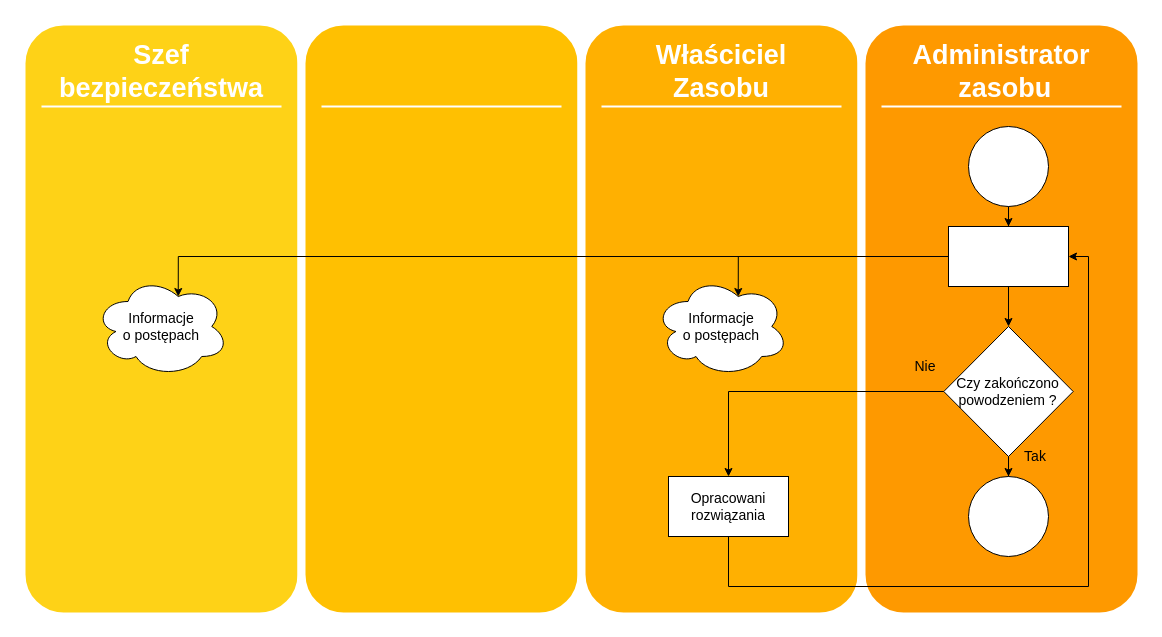
Image size: 1162x637. Some labels were removed from this diagram. Here are the shapes that lost their labels. From the top down, the centre of each, then its label:
the point at 1008,256: Wdrażanie działań naprawczych
the point at 441,318: Inż. ds. bezpieczeństwa
